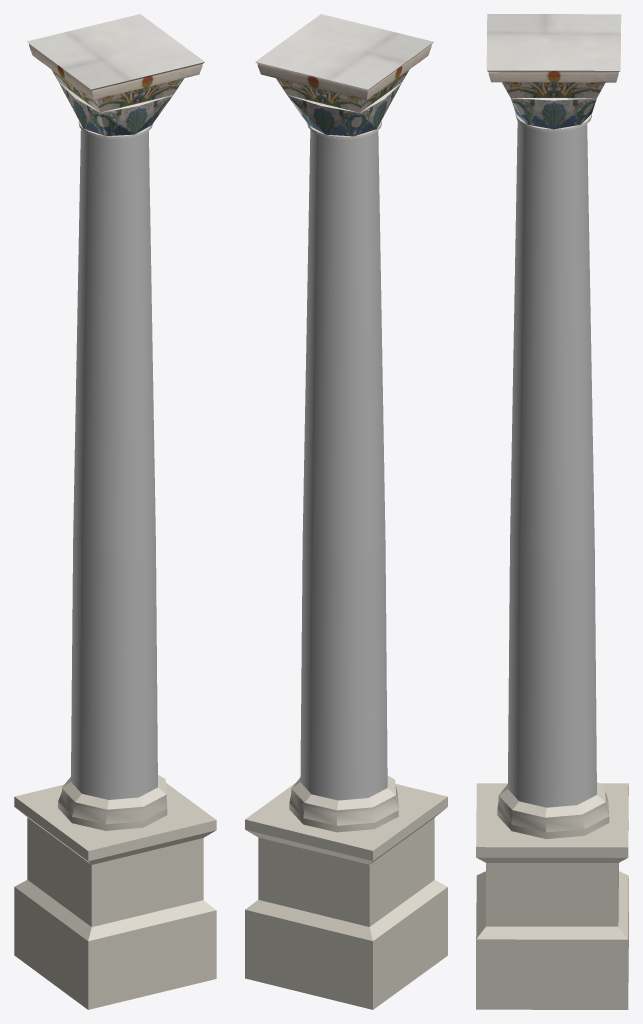
The model's file is librarykolona3.fbx.
3 views of the same model, side by side, from view 1: azimuth 30°, elevation 25°; view 2: azimuth 150°, elevation 25°; view 3: azimuth 270°, elevation 25° (orthographic). The views are drawn at different scales.
Visible parts, largest first — view 1: Model; view 2: Model; view 3: Model.
Part boxes in pixels (x1,y1,x2,y2): Model: [14, 14, 216, 1009]; Model: [245, 14, 447, 1009]; Model: [476, 14, 628, 1009].
Size of the model in its own units: 1078 by 7326 by 1083.
